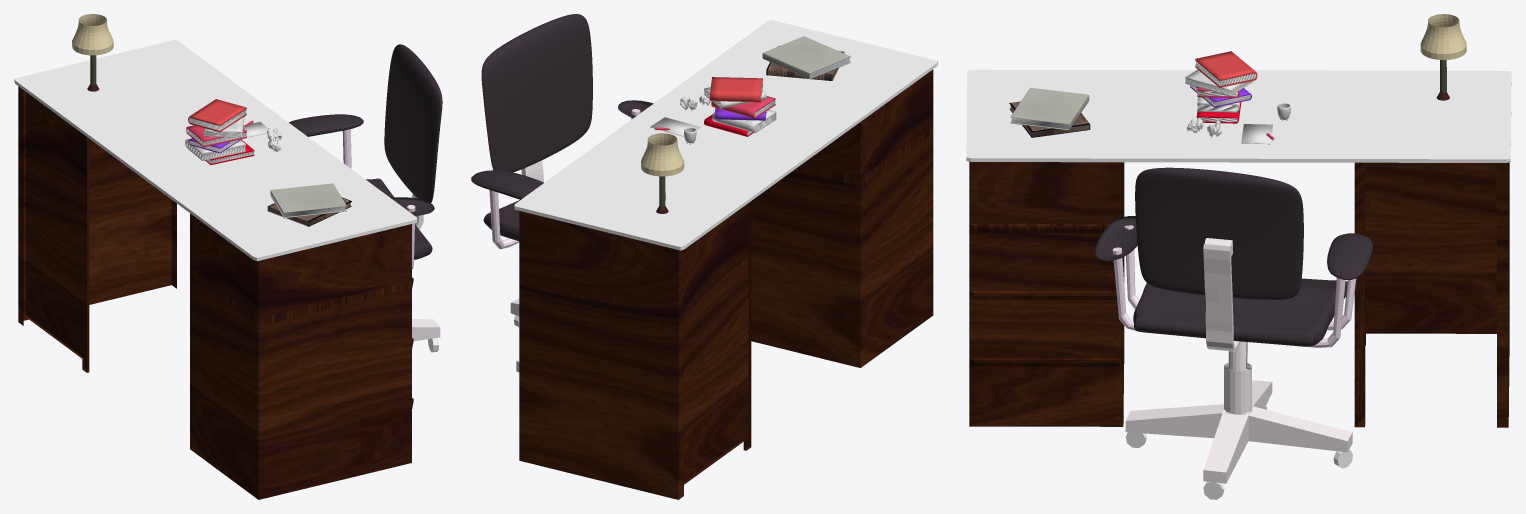
The model's file is desk.glb.
3 views of the same model, side by side, from view 1: azimuth 30°, elevation 25°; view 2: azimuth 150°, elevation 25°; view 3: azimuth 270°, elevation 25° (orthographic). The views are drawn at different scales.
Parts seen in each view (by area): view 1: Cube.001, Cube, Cube.002, chair.002, Book_Case, Book.001, Cube.003, Cube.004, Cube.005, Cylinder.003, Book; view 2: Cube.002, Cube.001, Cube, chair.002, Book_Case, Book.001, Cube.004, Cube.005, Cylinder.003, Cube.003, Book; view 3: chair.002, Cube, Cube.001, Cube.002, Book_Case, Book.001, Cylinder.003, Cube.005, Cube.004, Cube.003, Book.
Boxes of the visible parts, x1,y1,x2,y2 form: Cube.001: (190,213,411,499); Cube: (14,40,417,261); Cube.002: (18,86,176,372); chair.002: (289,44,442,352); Book_Case: (141,99,308,179); Book.001: (270,183,346,218); Cube.003: (190,267,413,325); Cube.004: (190,327,413,385); Cube.005: (190,388,413,445); Cylinder.003: (72,14,113,55); Book: (267,197,351,226); Cube.002: (519,201,751,499); Cube.001: (751,69,933,367); Cube: (514,20,937,250); chair.002: (471,14,653,372); Book_Case: (625,77,806,167); Book.001: (762,36,850,79); Cube.004: (751,188,933,249); Cube.005: (751,251,933,311); Cylinder.003: (641,133,684,176); Cube.003: (794,126,933,186); Book: (766,46,844,80); chair.002: (1095,167,1373,499); Cube: (966,69,1511,162); Cube.001: (969,161,1124,426); Cube.002: (1354,162,1509,427); Book_Case: (1166,51,1313,148); Book.001: (1010,87,1089,130); Cylinder.003: (1420,14,1466,60); Cube.005: (969,326,1123,366); Cube.004: (969,259,1123,299); Cube.003: (969,162,1124,233); Book: (1009,101,1090,137).
Bounding box in the file's own units: 1.01 × 1.03 × 1.45.
23 materials, 4 textured.
